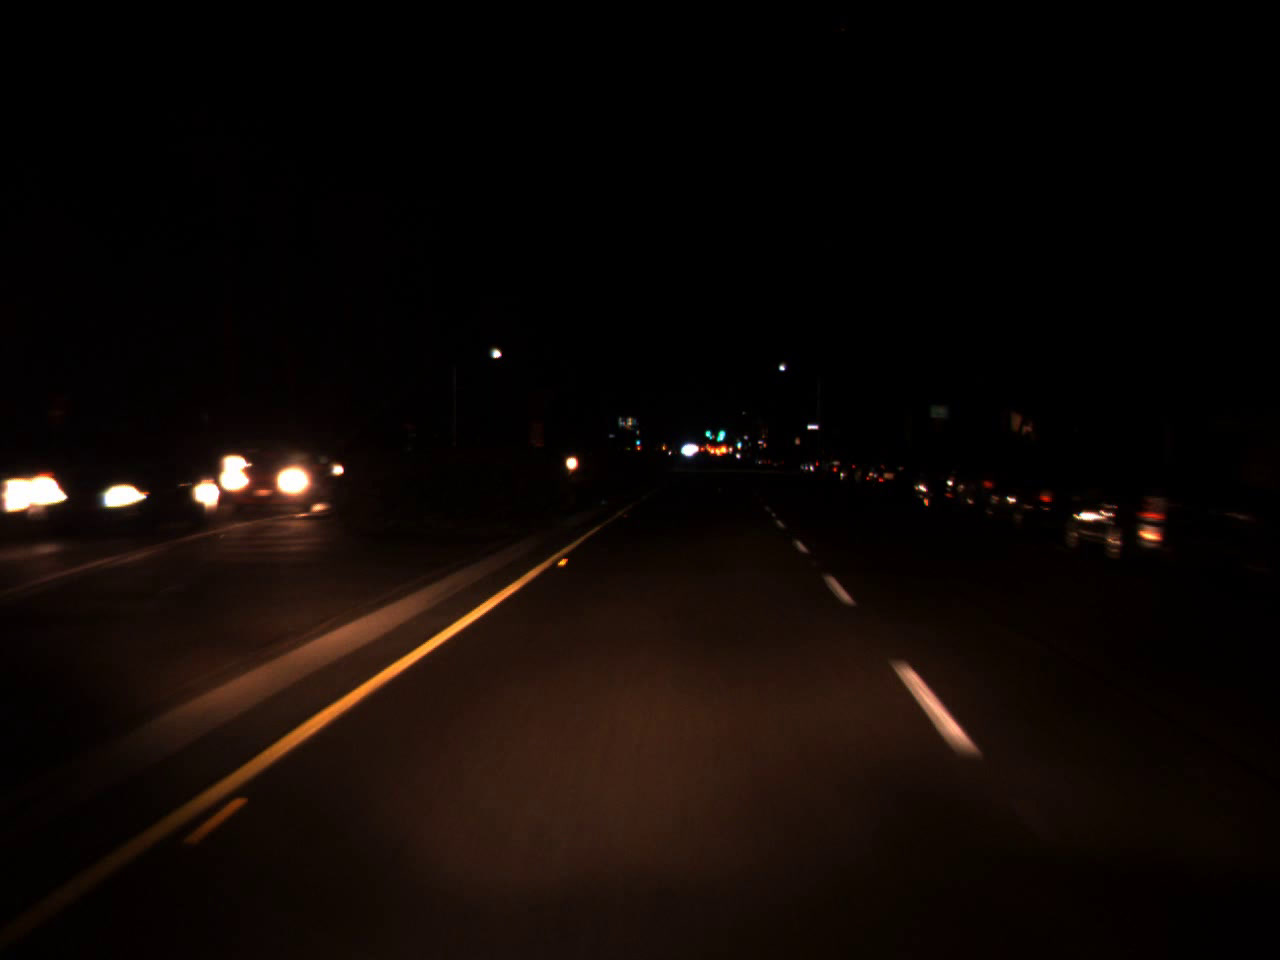go: (714, 422, 728, 437), (702, 422, 711, 437), (634, 431, 641, 446), (735, 436, 742, 448)
